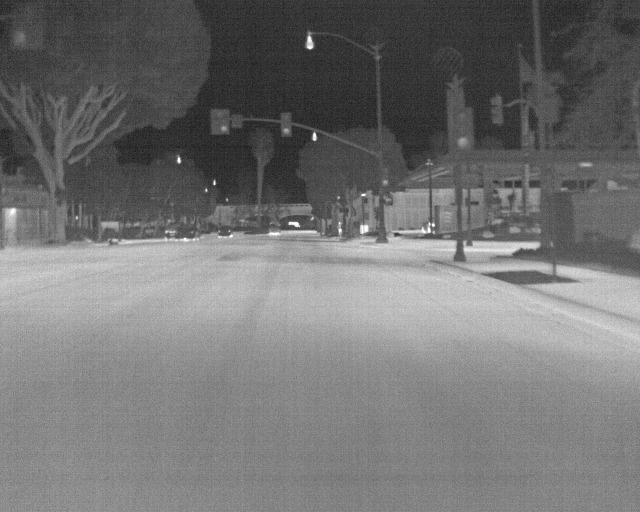car: (162, 221, 200, 240), (218, 223, 233, 239)
